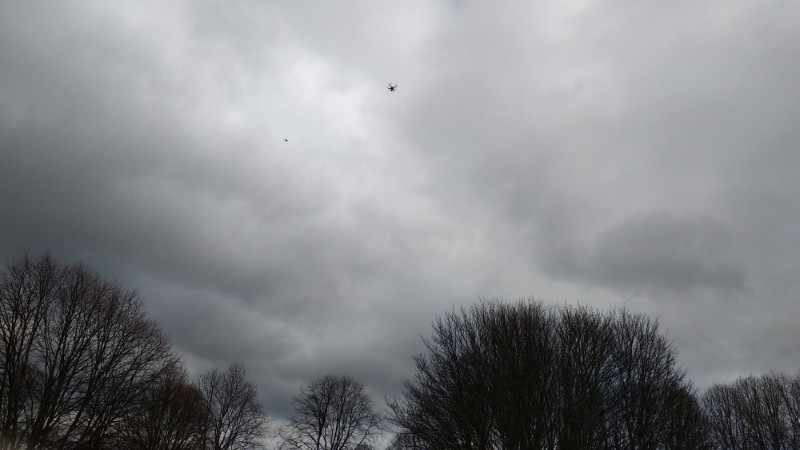drone: (387, 83, 398, 91)
